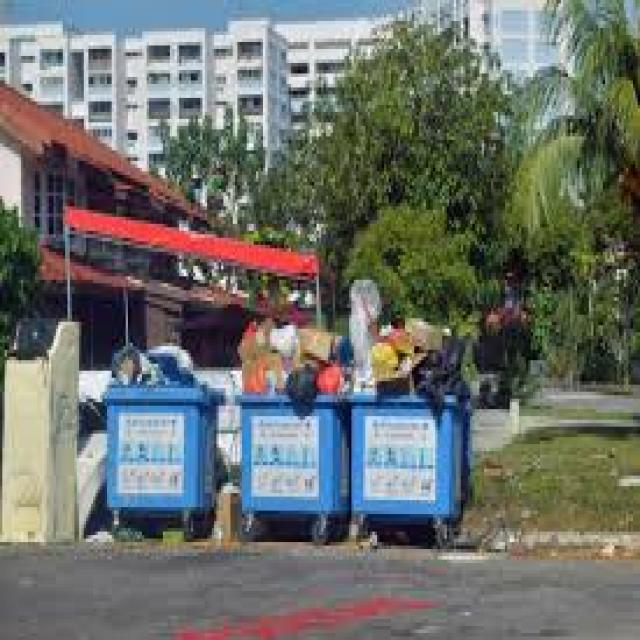bin_empty: (346, 289, 473, 541)
bin_full: (236, 319, 350, 534), (106, 330, 218, 532)
bulk_waste: (348, 280, 418, 396), (114, 339, 202, 396), (268, 292, 330, 362), (243, 317, 285, 400), (322, 362, 344, 399)
normal_waste: (414, 357, 460, 407), (286, 356, 324, 410)
